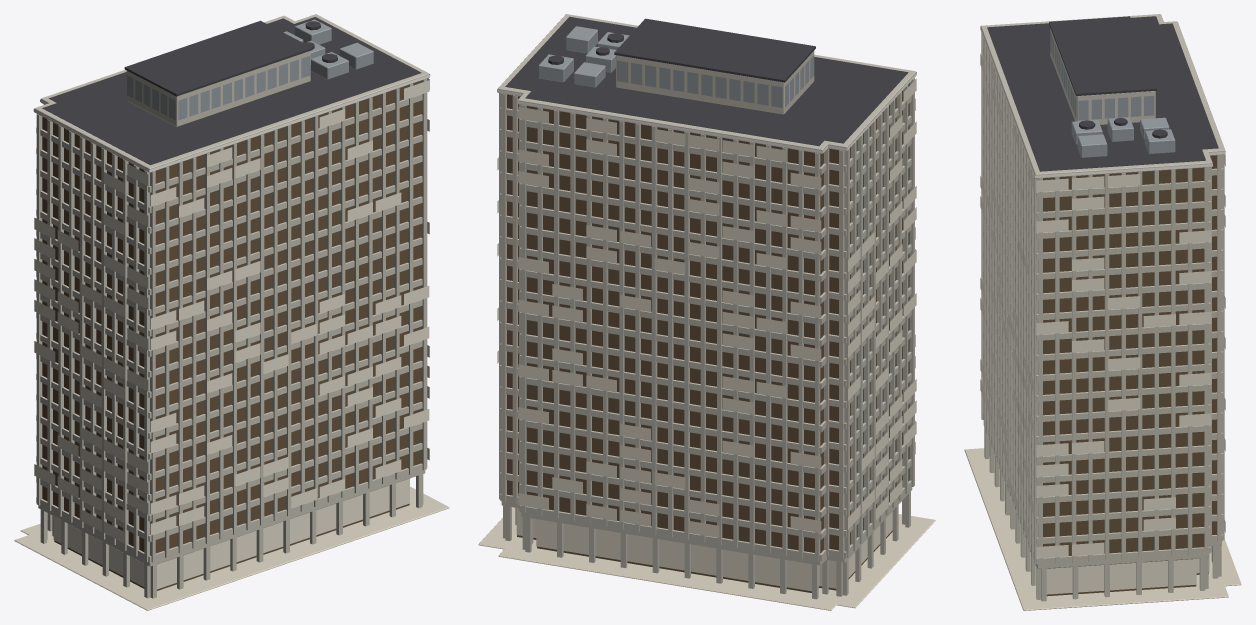
The model's file is 475-sansome-street.glb.
3 renders of one model, left to right at view 1: azimuth 30°, elevation 25°; view 2: azimuth 150°, elevation 25°; view 3: azimuth 270°, elevation 25°, orthographic. The views are drawn at different scales.
Visible parts, largest first — view 1: 475-sansome-street_body, 475-sansome-street_night_glow; view 2: 475-sansome-street_body, 475-sansome-street_night_glow; view 3: 475-sansome-street_body, 475-sansome-street_night_glow.
Part boxes in pixels (bbox=[...]): 475-sansome-street_body: bbox=[14, 14, 449, 610]; 475-sansome-street_night_glow: bbox=[33, 74, 430, 589]; 475-sansome-street_body: bbox=[478, 14, 935, 610]; 475-sansome-street_night_glow: bbox=[497, 72, 916, 591]; 475-sansome-street_body: bbox=[964, 14, 1241, 610]; 475-sansome-street_night_glow: bbox=[980, 15, 1225, 594].
Size of the model in its own units: 72.34 by 89.7 by 48.61.
